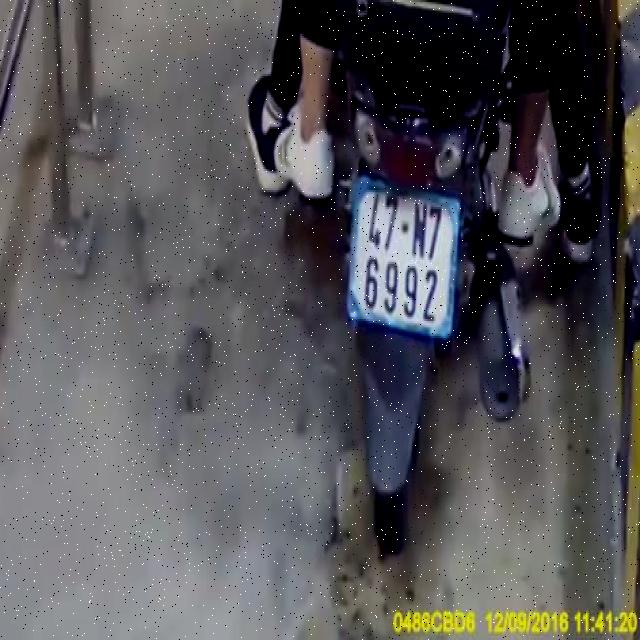2: (424, 262, 441, 324)
4: (365, 191, 382, 253)
6: (362, 252, 379, 312)
7: (382, 192, 398, 250), (427, 206, 443, 262)
9: (402, 258, 418, 319), (382, 260, 398, 316)
N: (412, 200, 428, 263)
